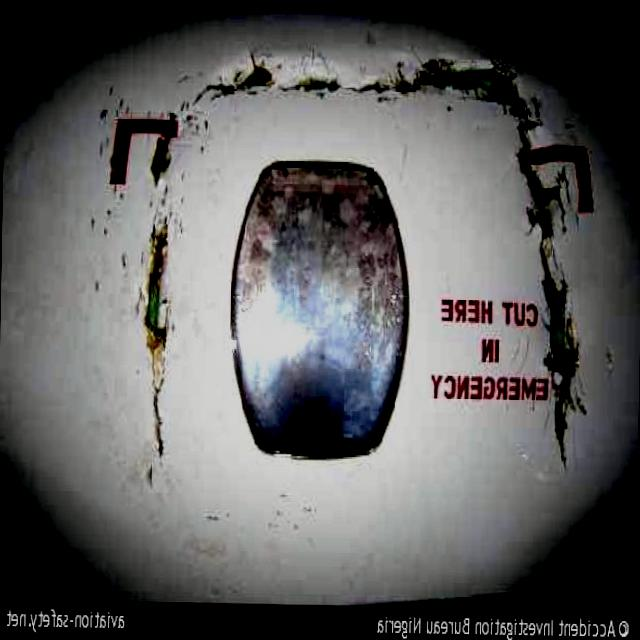crack: (134, 49, 592, 480)
